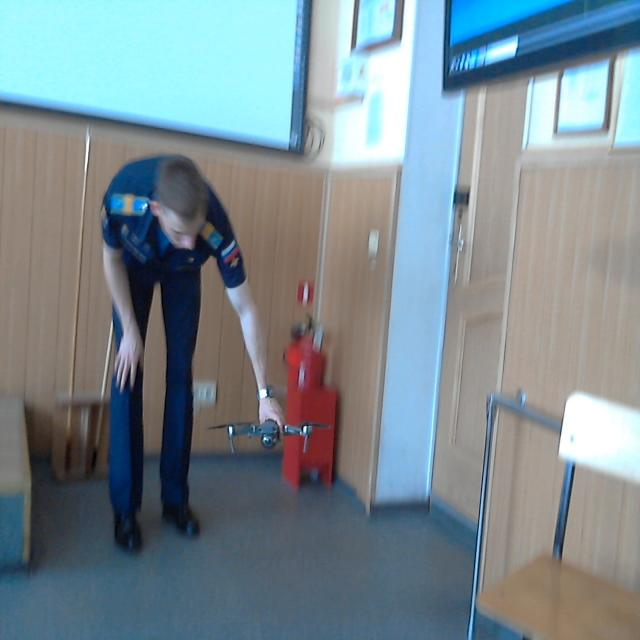drone: (212, 384, 322, 473)
